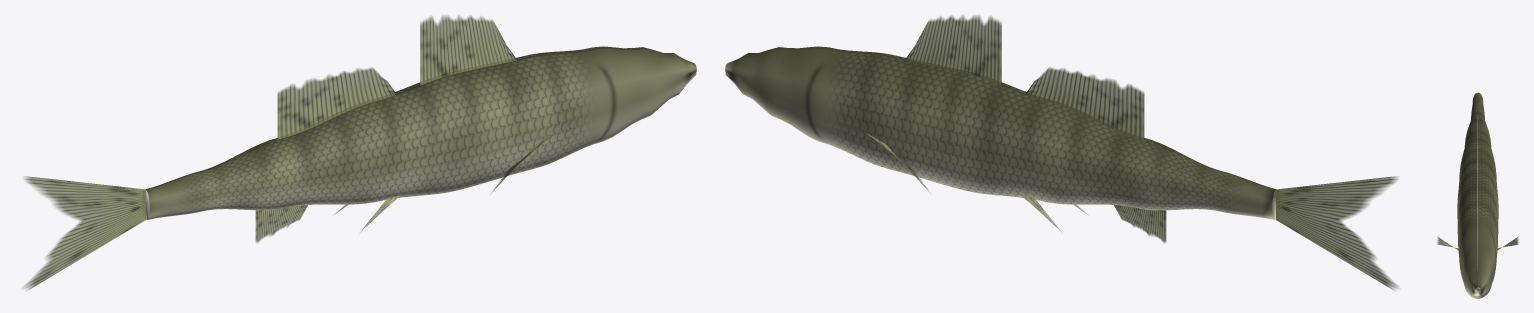
The model's file is sudak.glb.
3 views of the same model, side by side, from view 1: azimuth 30°, elevation 25°; view 2: azimuth 150°, elevation 25°; view 3: azimuth 270°, elevation 25° (orthographic). The views are drawn at different scales.
Parts seen in each view (by area): view 1: sudak; view 2: sudak; view 3: sudak.
Boxes of the visible parts, x1=… form: sudak: x1=22, y1=15, x2=696, y2=290; sudak: x1=725, y1=15, x2=1399, y2=290; sudak: x1=1437, y1=92, x2=1518, y2=298.
Size of the model in its own units: 0.7936 by 0.2141 by 0.1195.
1 material, 1 textured.
